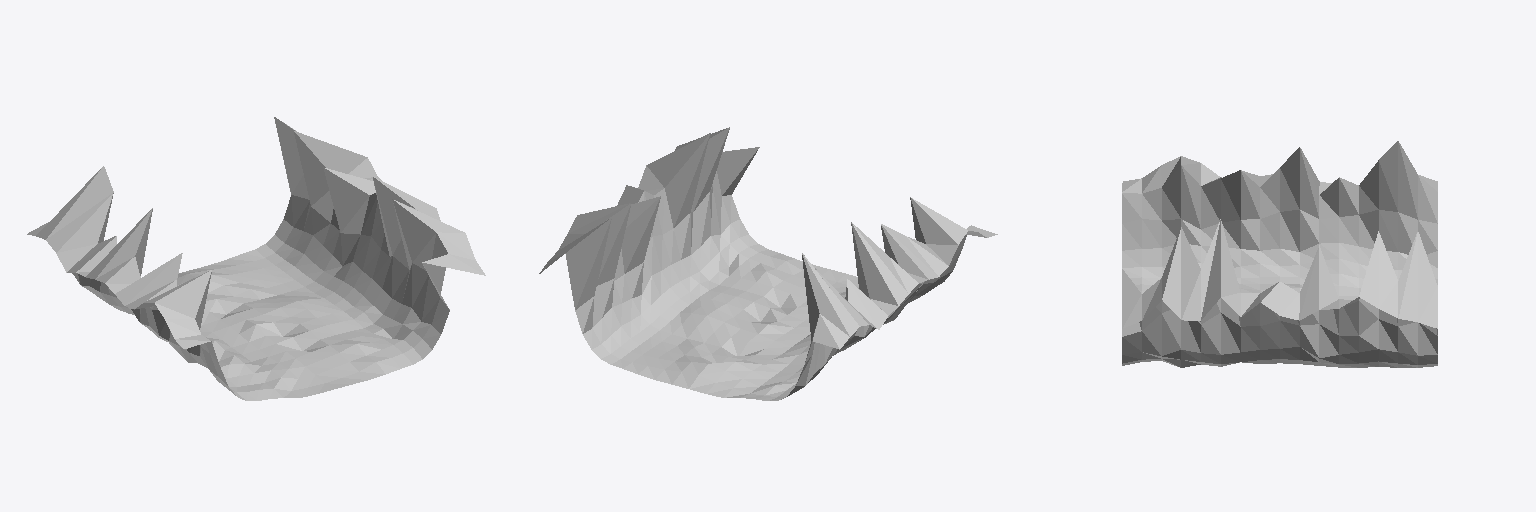
File: model_ground.obj
3 renders of one model, left to right at view 1: azimuth 30°, elevation 25°; view 2: azimuth 150°, elevation 25°; view 3: azimuth 270°, elevation 25°, orthographic.
Parts seen in each view (by area): view 1: pPlane3; view 2: pPlane3; view 3: pPlane3.
Part boxes in pixels (x1,y1,x2,y2): pPlane3: (27,117,485,400); pPlane3: (539,127,997,400); pPlane3: (1122,141,1437,367).
Size of the model in its own units: 171 by 86.6 by 155.